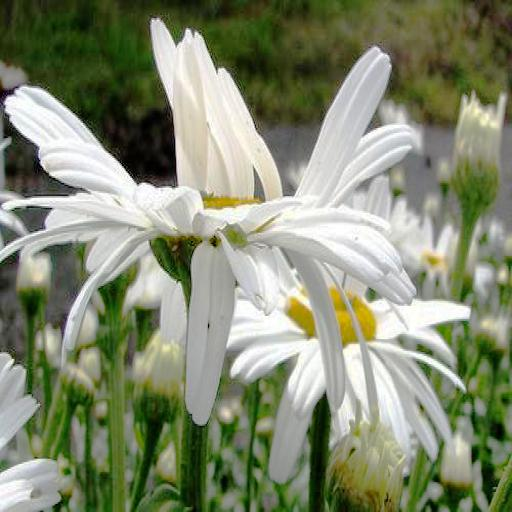daisy: (18, 55, 394, 246), (220, 219, 464, 414), (1, 346, 59, 512)
